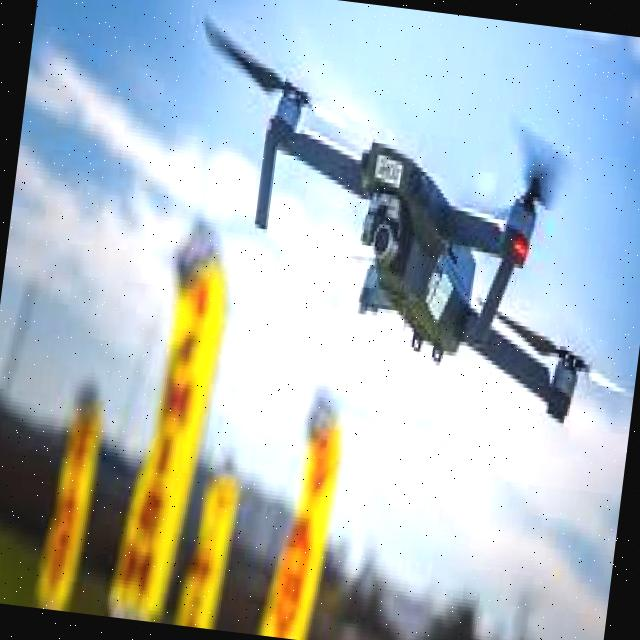drone: (159, 10, 640, 453)
